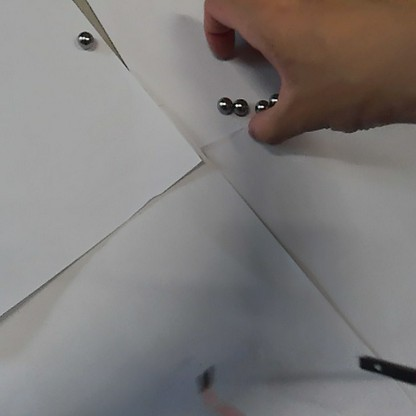ironball: (76, 31, 93, 47), (216, 96, 230, 114), (233, 97, 246, 114), (254, 98, 268, 110), (270, 91, 276, 103)
